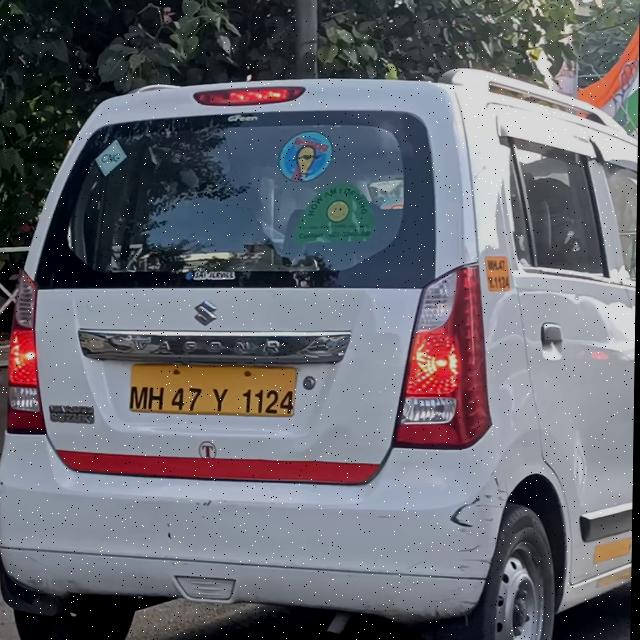plate: (128, 361, 302, 422)
